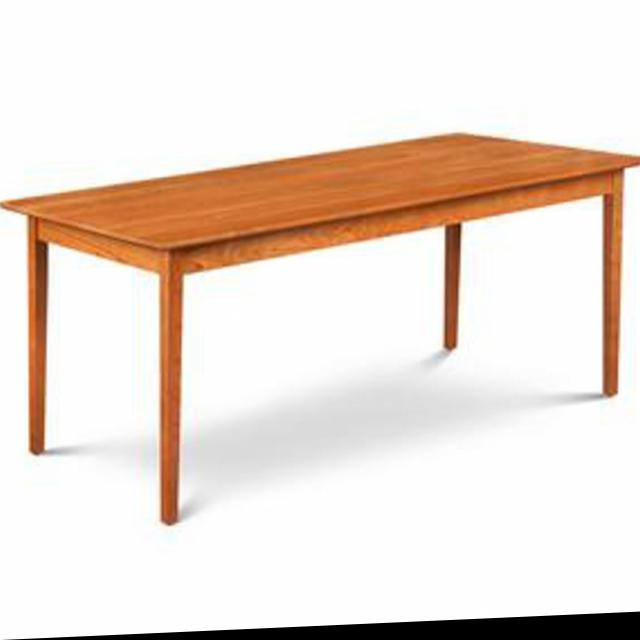Table: (0, 100, 640, 545)
